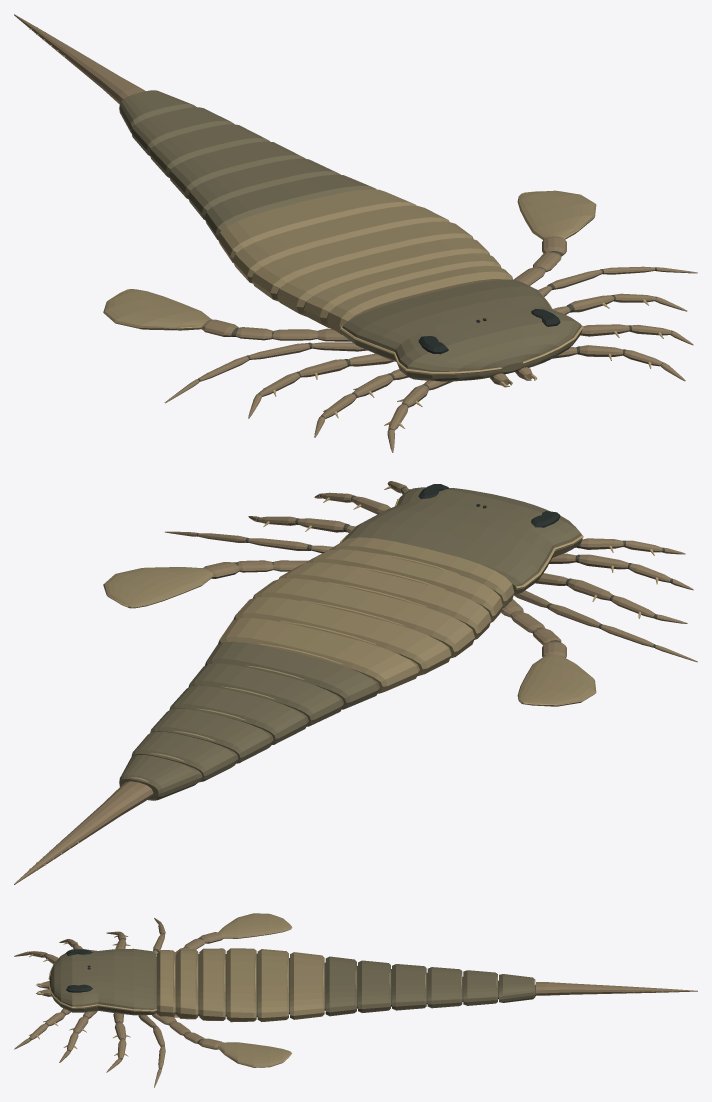
The picture shows the model from 3 angles, top to bottom: view 1: azimuth 30°, elevation 25°; view 2: azimuth 150°, elevation 25°; view 3: azimuth 270°, elevation 25°; orthographic projection. The views are drawn at different scales.
Visible parts, largest first — view 1: Eurypterus-shield, Eurypterus-plates, Eurypterus-limbs, Eurypterus-rim, Eurypterus-eyes; view 2: Eurypterus-plates, Eurypterus-shield, Eurypterus-limbs, Eurypterus-rim, Eurypterus-eyes; view 3: Eurypterus-shield, Eurypterus-plates, Eurypterus-limbs, Eurypterus-flex, Eurypterus-rim, Eurypterus-eyes.
Boxes of the visible parts, x1,y1,x2,y2 form: Eurypterus-shield: [119, 90, 582, 381]; Eurypterus-plates: [103, 189, 596, 334]; Eurypterus-limbs: [14, 14, 697, 452]; Eurypterus-rim: [29, 27, 663, 428]; Eurypterus-eyes: [418, 309, 560, 354]; Eurypterus-plates: [103, 537, 596, 706]; Eurypterus-shield: [119, 487, 582, 800]; Eurypterus-limbs: [14, 481, 697, 884]; Eurypterus-rim: [29, 485, 658, 870]; Eurypterus-eyes: [418, 484, 560, 527]; Eurypterus-shield: [49, 948, 535, 1016]; Eurypterus-plates: [157, 913, 324, 1067]; Eurypterus-limbs: [14, 918, 697, 1087]; Eurypterus-flex: [29, 922, 535, 1068]; Eurypterus-rim: [29, 919, 672, 1061]; Eurypterus-eyes: [66, 949, 92, 992].
Size of the model in its own units: 0.1237 by 0.0124 by 0.211.
